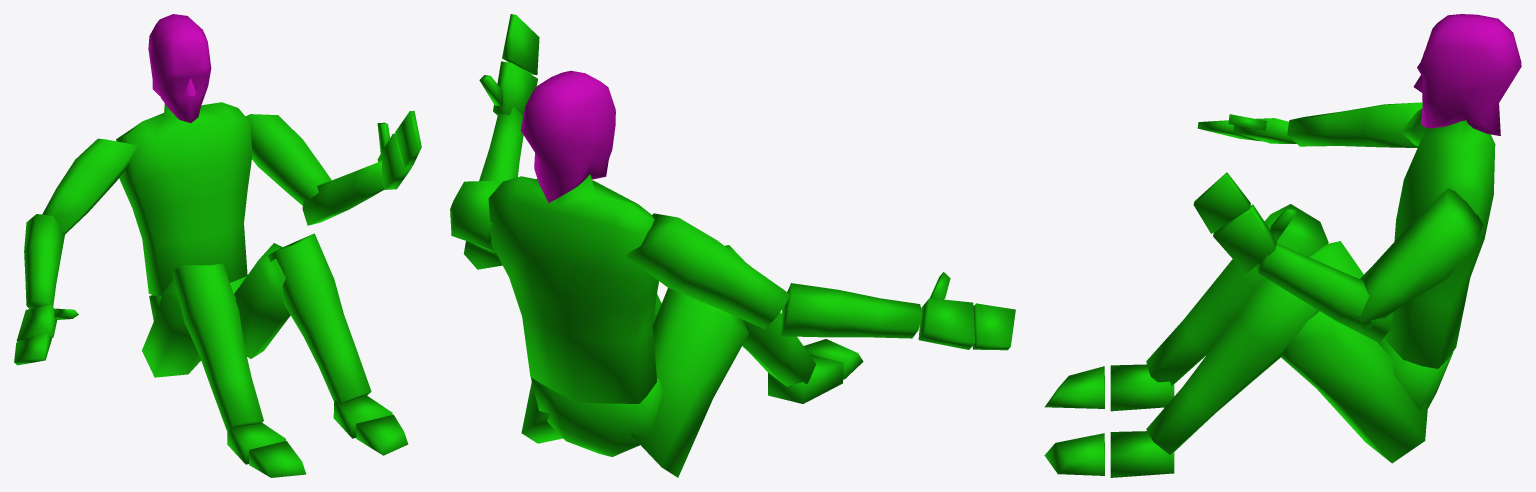
Rendered from SittingCharacter.FBX.
3 renders of one model, left to right at view 1: azimuth 30°, elevation 25°; view 2: azimuth 150°, elevation 25°; view 3: azimuth 270°, elevation 25°, orthographic. The views are drawn at different scales.
Parts seen in each view (by area): view 1: Body, Head; view 2: Body, Head; view 3: Body, Head.
Boxes of the visible parts, bbox=[...] form: Body: bbox=[14, 102, 421, 477]; Head: bbox=[148, 14, 211, 122]; Body: bbox=[450, 14, 1015, 477]; Head: bbox=[520, 70, 615, 202]; Body: bbox=[1044, 102, 1495, 477]; Head: bbox=[1413, 14, 1521, 135].
Size of the model in its own units: 1.3 by 1.02 by 1.06.
